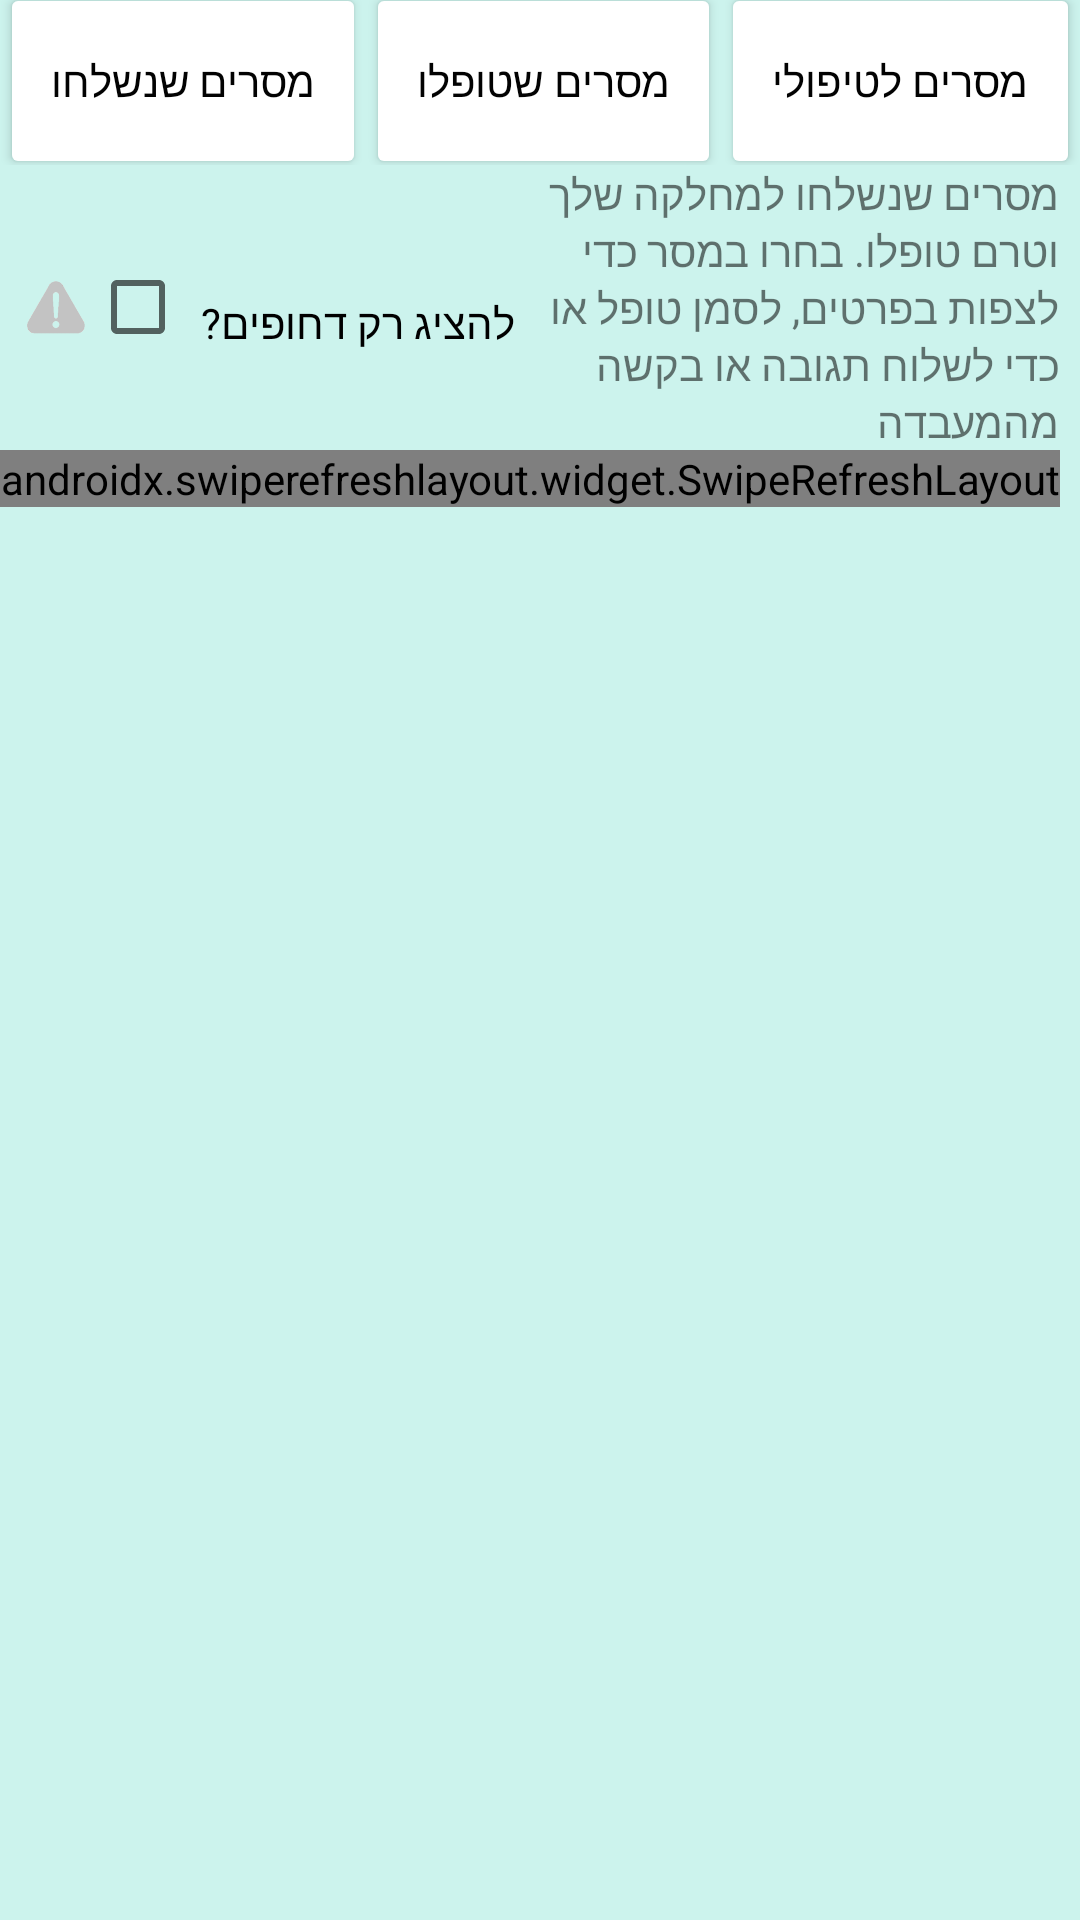

Screen size 1080*1920. Icon name, then its box in pixels as (x1, y1, x2, y2):
greyexclamation trans: (27, 281, 85, 333)
